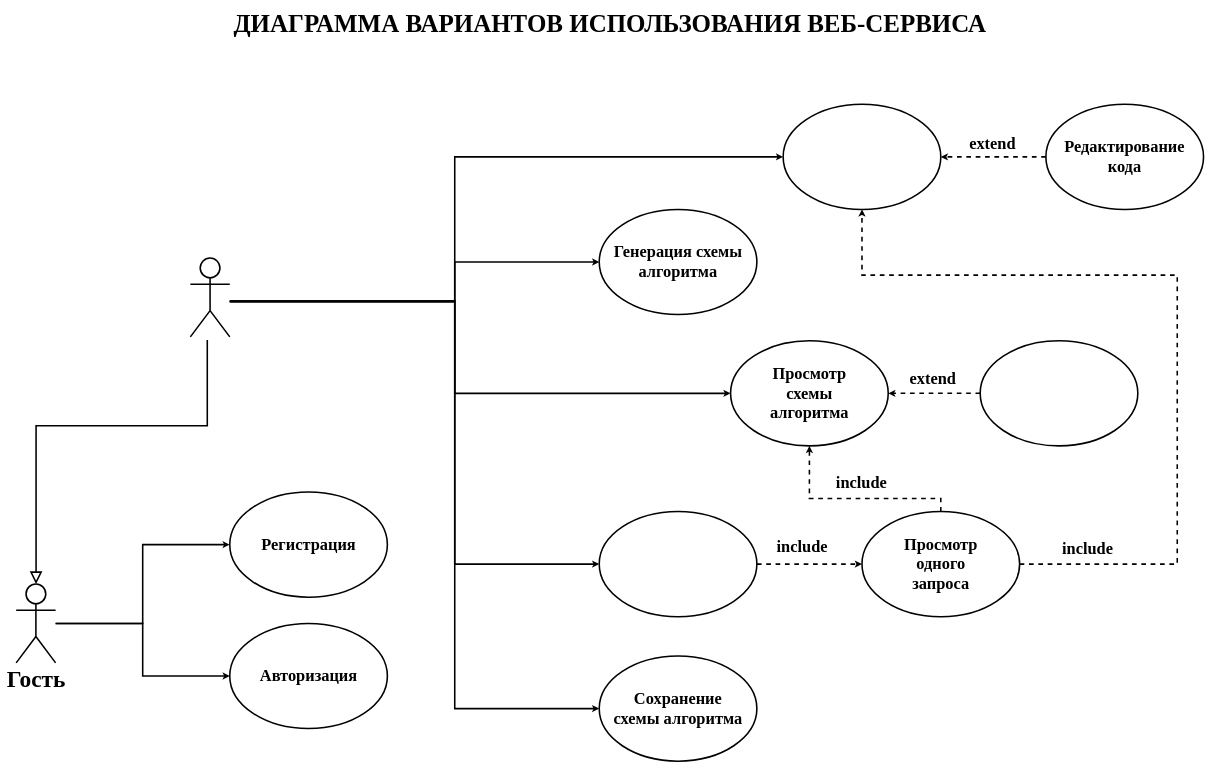
Some shapes in this 1211 by 769 pixel diagram are drawn without their labels. Each missing label, with the centre of its shape:
"Пользователь" belongs at point (209, 297).
"Просмотр истории запросов" belongs at point (677, 564).
"Просмотр кода" belongs at point (861, 156).
"Редактирование схемы алгоритма" belongs at point (1058, 393).
